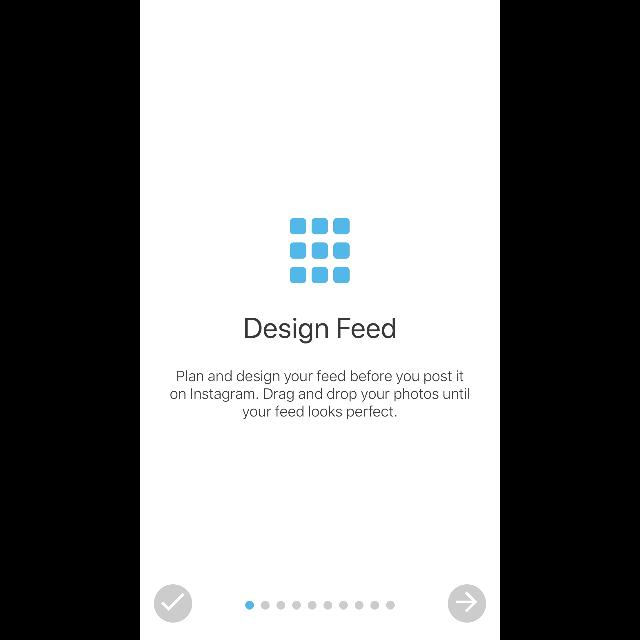icon: (290, 218, 350, 284), (448, 584, 486, 622), (154, 584, 192, 622)
pageindicator: (246, 601, 394, 609)
text: (170, 370, 470, 420), (245, 318, 395, 344)
